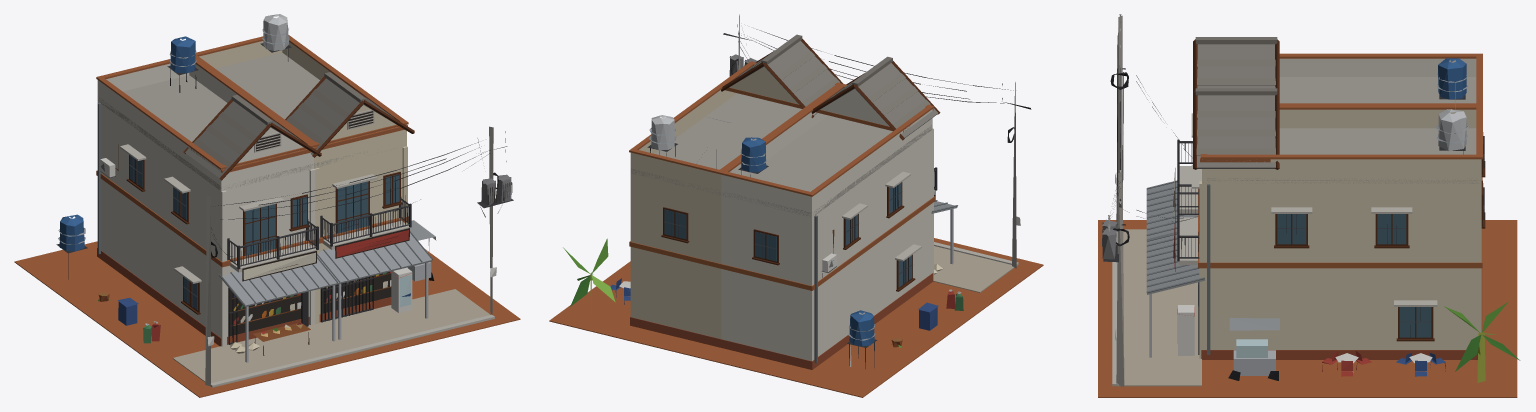
File: shop_2.glb
3 renders of one model, left to right at view 1: azimuth 30°, elevation 25°; view 2: azimuth 150°, elevation 25°; view 3: azimuth 270°, elevation 25°, orthographic. The views are drawn at different scales.
Parts seen in each view (by area): view 1: body, windows; view 2: body, windows; view 3: body, windows.
Boxes of the visible parts, left/top/right/bottom form: body: left=14, top=14, right=520, bottom=397; windows: left=129, top=111, right=399, bottom=336; body: left=549, top=14, right=1043, bottom=397; windows: left=664, top=182, right=912, bottom=287; body: left=1098, top=14, right=1520, bottom=397; windows: left=1277, top=132, right=1483, bottom=337.
Size of the model in its own units: 15.9 by 10.99 by 17.05.
